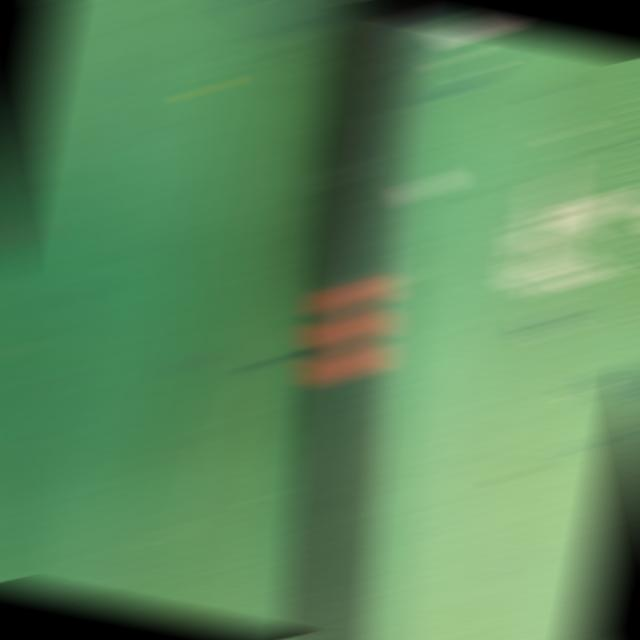red: (297, 281, 402, 382)
